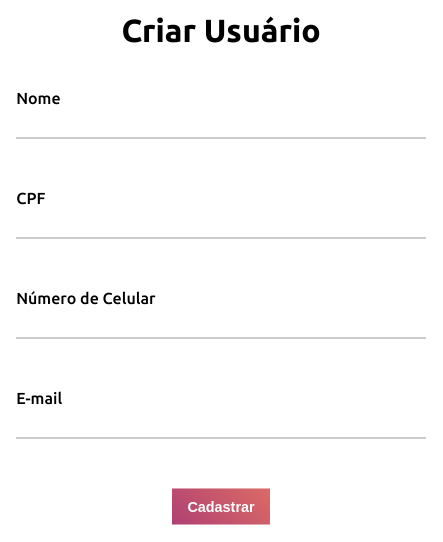
CreateUserForm › shows error message when a short name is inputed
In the field with id "name": (221, 122) [16, 106, 426, 138], type "E"
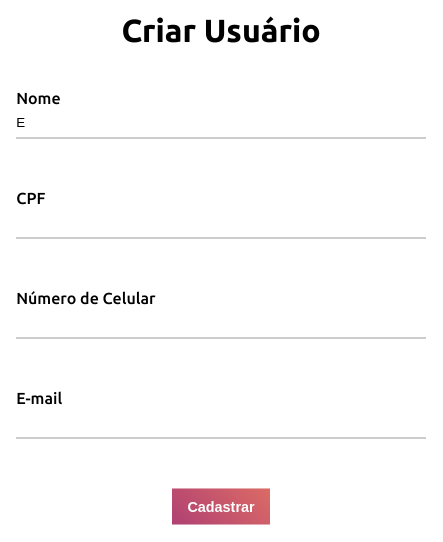
In the field with id "cpf": (221, 222) [16, 206, 426, 238], type "111.728.584-70"
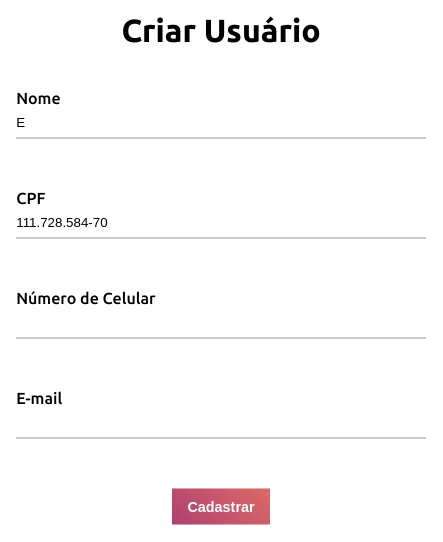
In the field labelled "Número de Celular": (221, 322) [16, 306, 426, 338], type "(81) 9 9918-6187"
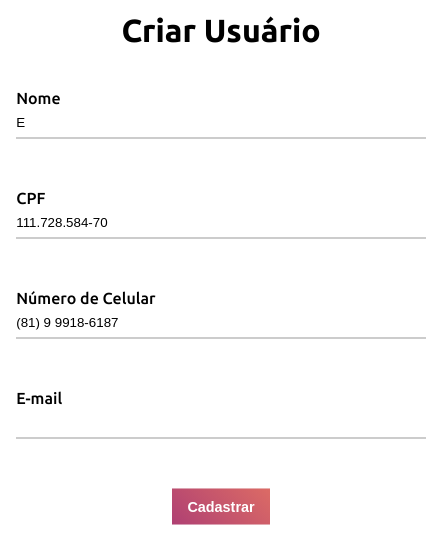
In the field with id "email": (221, 422) [16, 406, 426, 438], type "edgarmarques.110@gmail.com"
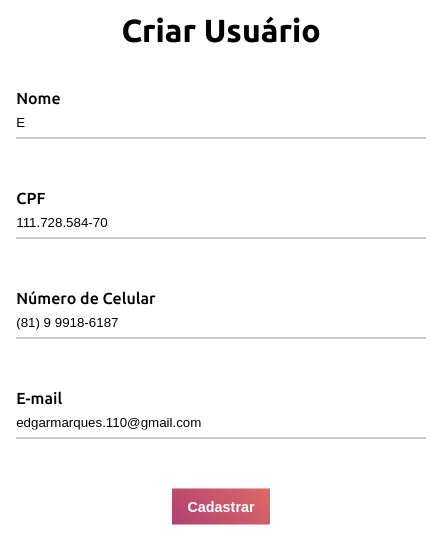
Submit the form
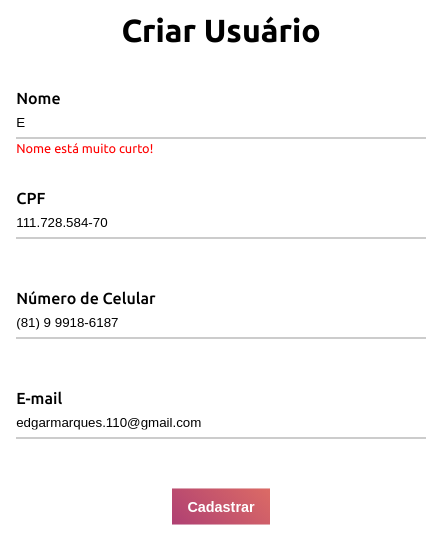
Check: the text "Nome está muito curto!" is shown, box [16, 141, 153, 155]
